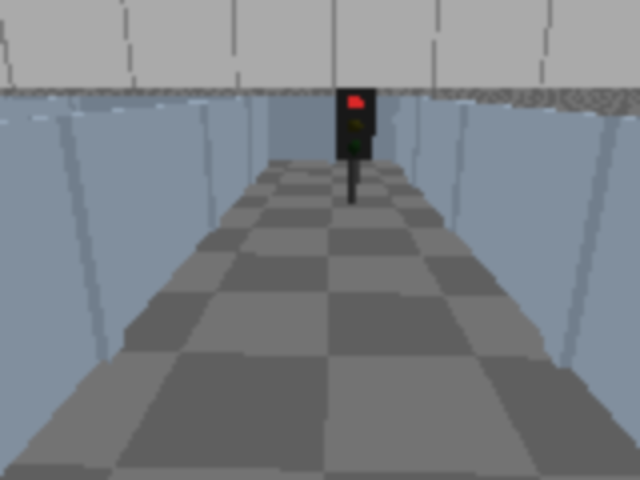traffic_light: (335, 82, 376, 206)
